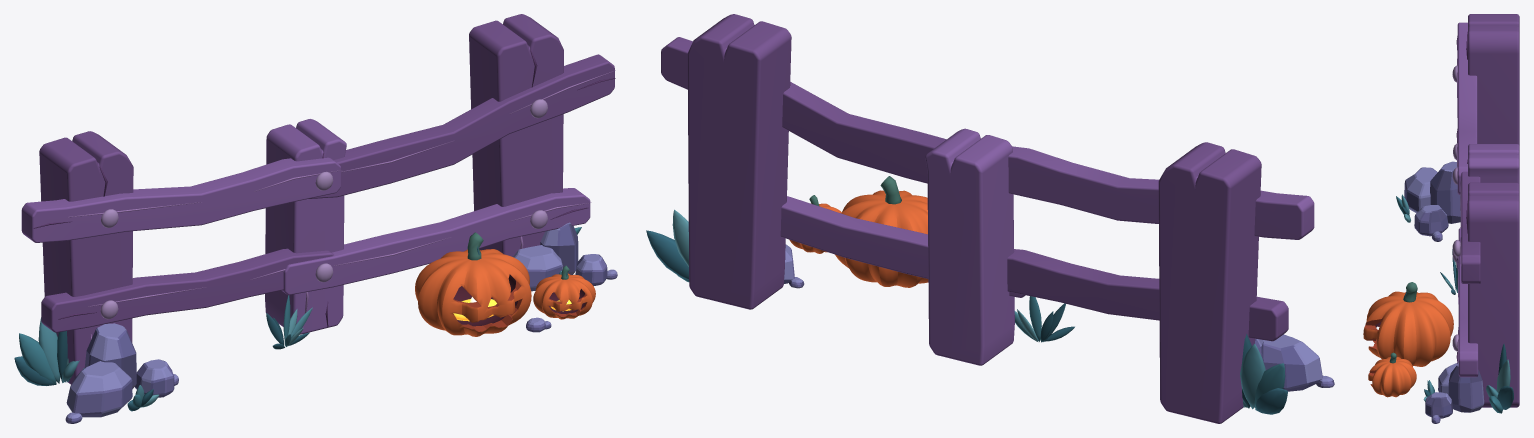
Rendered from fence_set_pumpkin.glb.
The picture shows the model from 3 angles, left to right: view 1: azimuth 30°, elevation 25°; view 2: azimuth 150°, elevation 25°; view 3: azimuth 270°, elevation 25°; orthographic projection. The views are drawn at different scales.
Parts seen in each view (by area): view 1: Hewn_Post_3.001, Upper_Rail_Left.001, Upper_Rail_Right.001, Hewn_Post_1.001, Lower_Rail_Right.001, Lower_Rail_Left.001, Hewn_Post_2.001, Carved_Ribbed_Pumpkin.002, Front_Faceted_Boulder.001, Carved_Ribbed_Pumpkin.003, Rear_Standing_Slate.001, Front_Faceted_Boulder.002 (+5 smaller); view 2: Hewn_Post_3.001, Hewn_Post_1.001, Hewn_Post_2.001, Upper_Rail_Left.001, Upper_Rail_Right.001, Lower_Rail_Left.001, Lower_Rail_Right.001, Carved_Ribbed_Pumpkin.002, Front_Faceted_Boulder.001, Right_Fence_Foliage_Leaf_6, Left_Fence_Foliage_Leaf_3, Left_Fence_Foliage_Leaf_2 (+2 smaller); view 3: Hewn_Post_3.001, Hewn_Post_1.001, Carved_Ribbed_Pumpkin.002, Upper_Rail_Left.001, Hewn_Post_2.001, Carved_Ribbed_Pumpkin.003, Lower_Rail_Right.001, Upper_Rail_Right.001, Rear_Standing_Slate.001, Rear_Standing_Slate.002, Front_Faceted_Boulder.001, Right_Low_Boulder.001 (+5 smaller).
Boxes of the visible parts, x1,y1,x2,y2 form: Hewn_Post_3.001: (469,14,563,256); Upper_Rail_Left.001: (21,157,340,242); Upper_Rail_Right.001: (309,54,614,198); Hewn_Post_1.001: (39,131,133,384); Lower_Rail_Right.001: (281,188,590,295); Lower_Rail_Left.001: (41,248,334,332); Hewn_Post_2.001: (265,119,346,334); Carved_Ribbed_Pumpkin.002: (415,249,531,336); Front_Faceted_Boulder.001: (66,361,132,417); Carved_Ribbed_Pumpkin.003: (533,273,595,319); Rear_Standing_Slate.001: (84,323,136,389); Front_Faceted_Boulder.002: (513,245,562,291); Hewn_Post_3.001: (687,14,791,309); Hewn_Post_1.001: (1158,142,1261,423); Hewn_Post_2.001: (925,128,1014,365); Upper_Rail_Left.001: (1008,146,1314,239); Upper_Rail_Right.001: (661,37,946,183); Lower_Rail_Left.001: (1007,249,1288,341); Lower_Rail_Right.001: (780,196,1025,297); Carved_Ribbed_Pumpkin.002: (835,190,928,287); Front_Faceted_Boulder.001: (1263,334,1322,391); Right_Fence_Foliage_Leaf_6: (646,230,688,279); Left_Fence_Foliage_Leaf_3: (1240,343,1265,409); Left_Fence_Foliage_Leaf_2: (1254,363,1285,409); Hewn_Post_3.001: (1468,182,1519,407); Hewn_Post_1.001: (1468,14,1519,145); Carved_Ribbed_Pumpkin.002: (1363,291,1453,366); Upper_Rail_Left.001: (1457,22,1477,194); Hewn_Post_2.001: (1468,144,1519,184); Carved_Ribbed_Pumpkin.003: (1368,357,1416,397); Lower_Rail_Right.001: (1458,228,1478,377); Upper_Rail_Right.001: (1461,171,1480,283); Rear_Standing_Slate.001: (1430,161,1460,223); Rear_Standing_Slate.002: (1448,364,1484,412); Front_Faceted_Boulder.001: (1404,167,1437,213); Right_Low_Boulder.001: (1414,205,1448,236).
Bounding box in the file's own units: 5.18 × 2.03 × 1.4.
